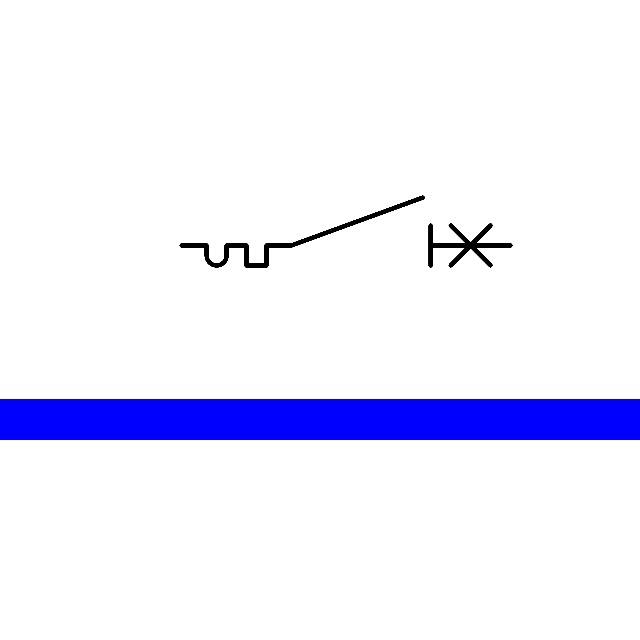interruptor_termomagnetico: (173, 189, 519, 274)
